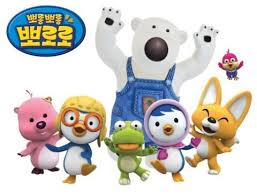Harry: (217, 48, 244, 81)
Loopy: (11, 90, 67, 174)
Petty: (143, 99, 201, 185)
Pororo: (45, 95, 109, 185)
